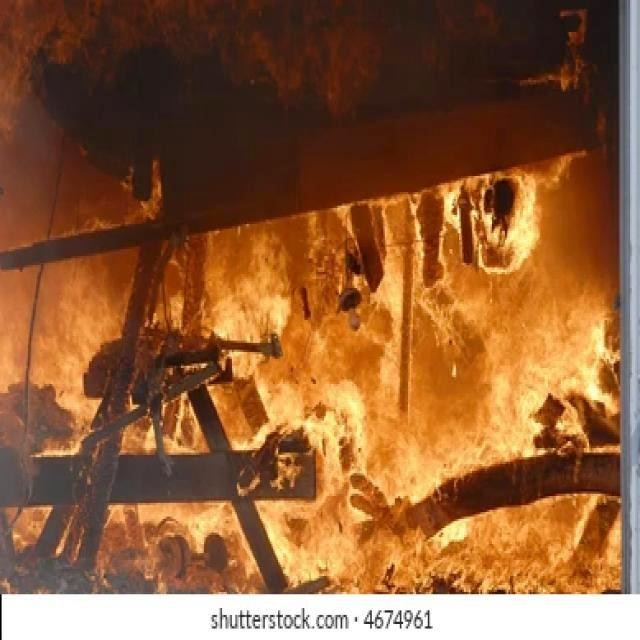fire: (370, 295, 614, 585), (213, 236, 363, 564), (452, 185, 548, 268)
